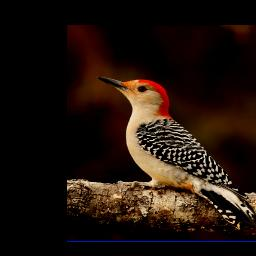Woodpecker: (98, 76, 256, 236)
